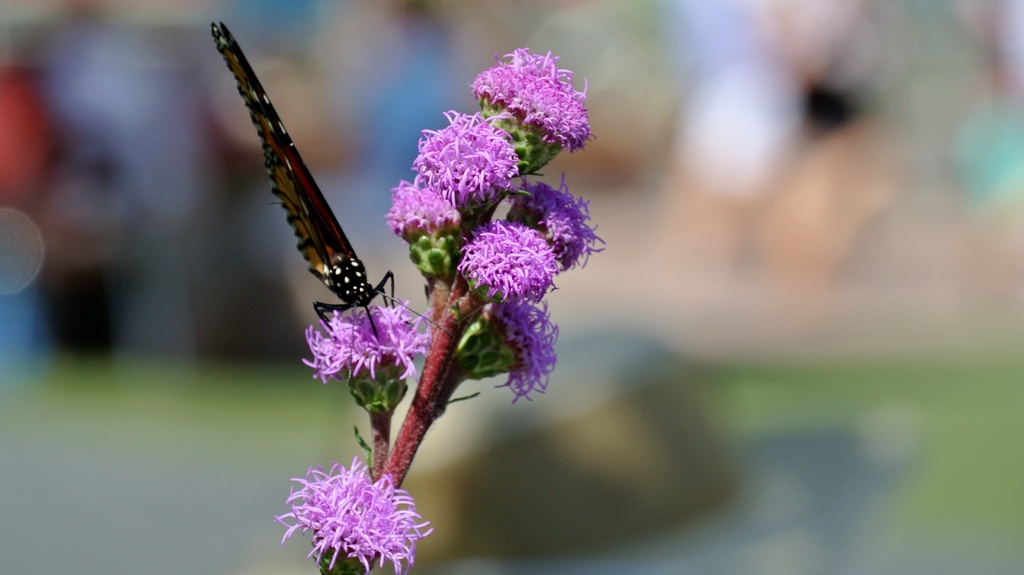Butterfly: (195, 19, 399, 331)
